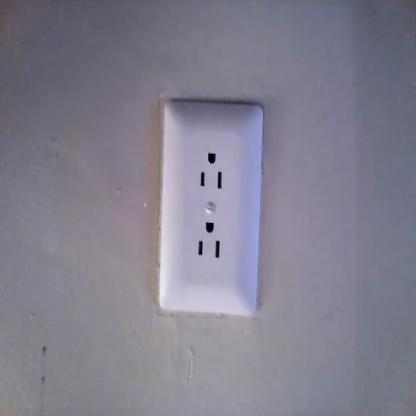OUTLET: (159, 104, 262, 312)
